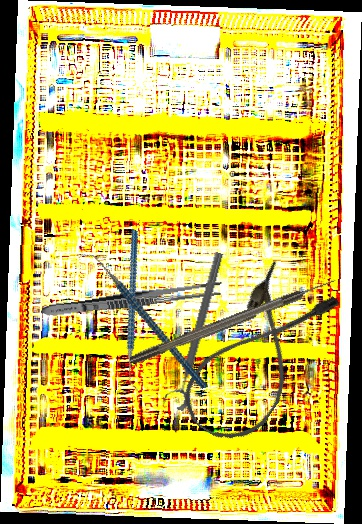Cannula: (171, 256, 345, 456)
Chopper: (78, 228, 209, 414), (77, 228, 194, 392)
Dressing Forceps: (39, 278, 224, 321)
Fixation Ring: (160, 248, 228, 412)
Hook Surgical: (128, 275, 339, 366)
